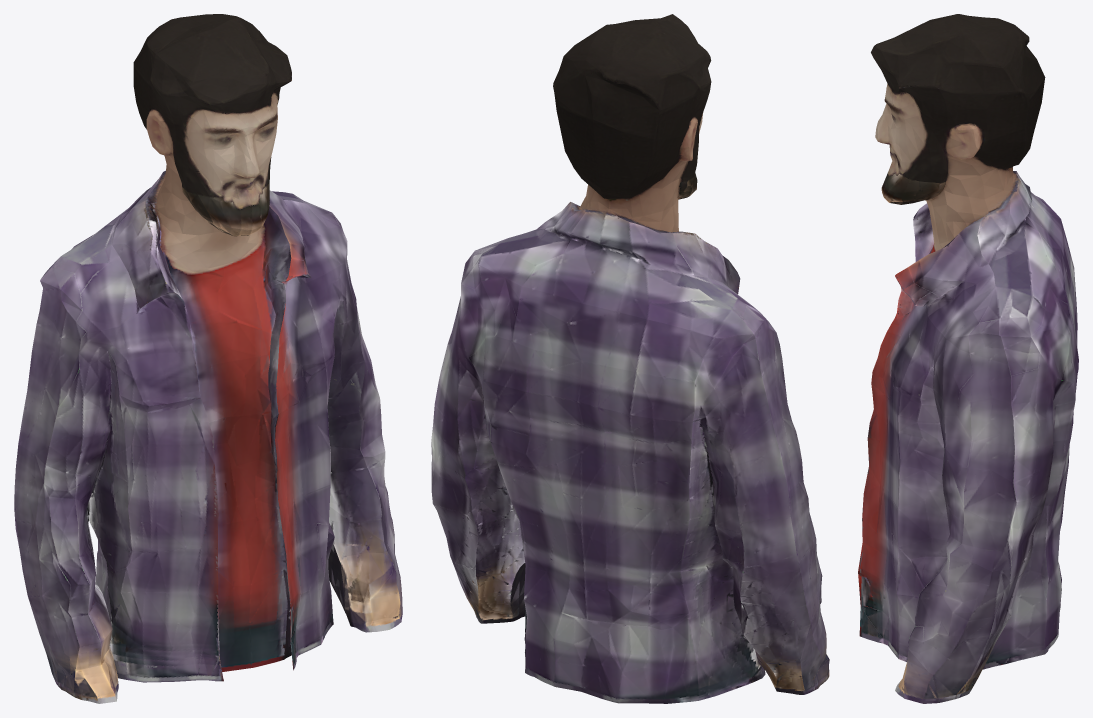
Rendered from step_14.glb.
3 views of the same model, side by side, from view 1: azimuth 30°, elevation 25°; view 2: azimuth 150°, elevation 25°; view 3: azimuth 270°, elevation 25° (orthographic). The views are drawn at different scales.
Visible parts, largest first — view 1: geometry_0; view 2: geometry_0; view 3: geometry_0.
Part boxes in pixels (x1,y1,x2,y2): geometry_0: [14, 14, 402, 703]; geometry_0: [431, 14, 829, 703]; geometry_0: [858, 14, 1078, 703].
Bounding box in the file's own units: 0.5061 × 0.8284 × 0.2754.
Materials: 1 (1 with a texture image).
